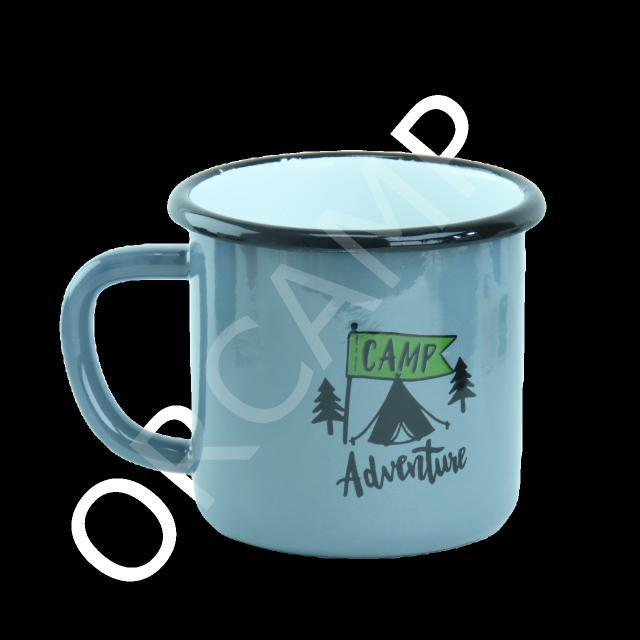Coffee Mug: (60, 150, 548, 560)
